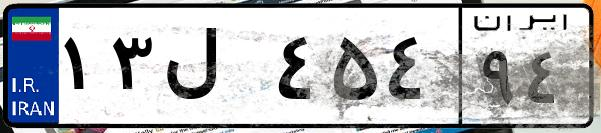1: (57, 26, 110, 100)
3: (110, 28, 158, 98)
4: (270, 28, 330, 110), (385, 28, 445, 110), (525, 38, 570, 115)
5: (330, 28, 385, 110)
9: (475, 38, 525, 113)
ل: (158, 20, 270, 120)
